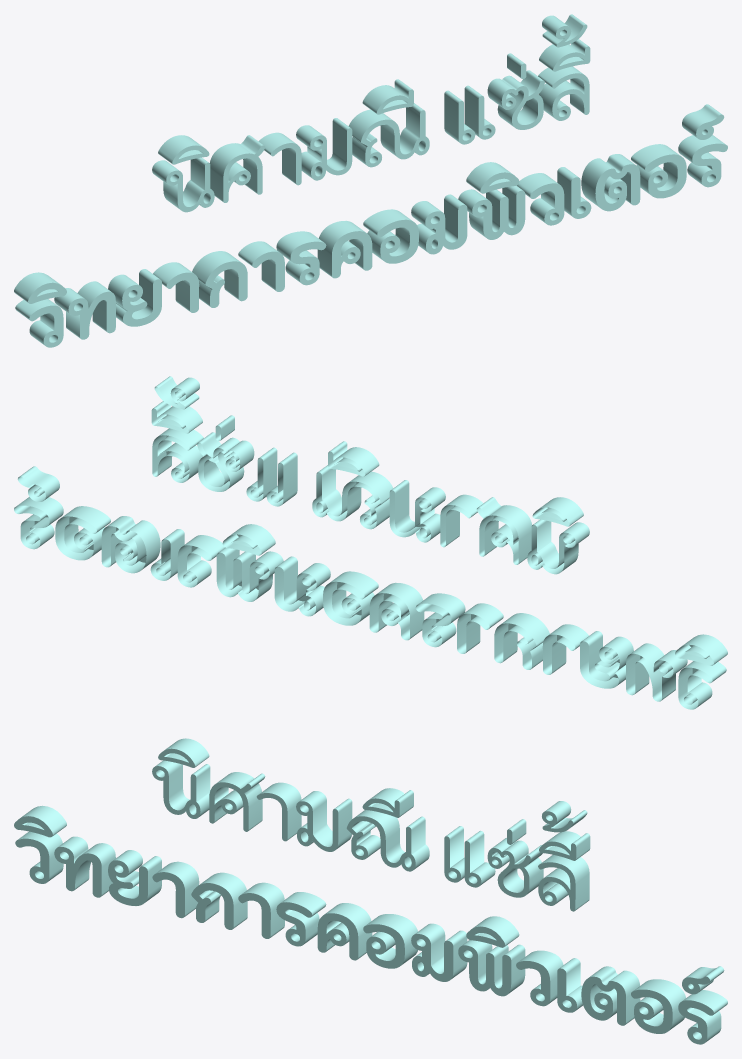
3 renders of one model, top to bottom at view 1: azimuth 30°, elevation 25°; view 2: azimuth 150°, elevation 25°; view 3: azimuth 330°, elevation 25°, orthographic.
Parts seen in each view (by area): view 1: Text; view 2: Text; view 3: Text.
Part boxes in pixels (box(x1,y1,x2,y2)): Text: box(14, 14, 727, 347); Text: box(14, 376, 727, 709); Text: box(14, 738, 727, 1044).
Bounding box in the file's own units: 1.56 × 0.4186 × 0.0544.
